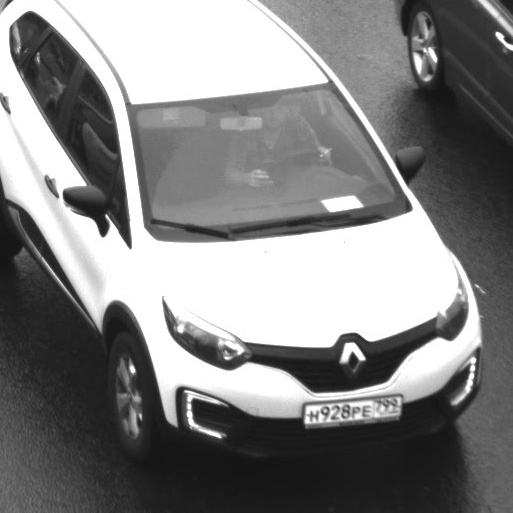plate: (294, 386, 412, 434)
